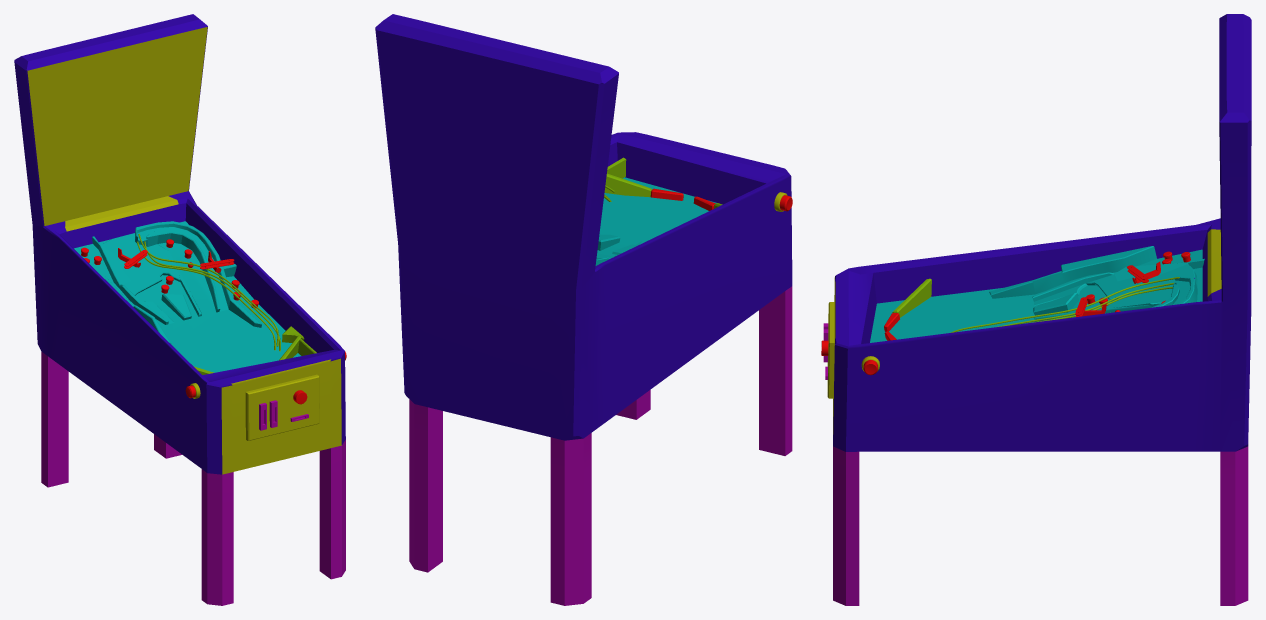
The model's file is PinBallMachine.fbx.
The picture shows the model from 3 angles, left to right: view 1: azimuth 30°, elevation 25°; view 2: azimuth 150°, elevation 25°; view 3: azimuth 270°, elevation 25°; orthographic projection. The views are drawn at different scales.
Visible parts, largest first — view 1: Trigger_Right1; view 2: Trigger_Right1; view 3: Trigger_Right1.
Part boxes in pixels (x1,y1,x2,y2): Trigger_Right1: (14, 14, 346, 605); Trigger_Right1: (375, 14, 792, 605); Trigger_Right1: (821, 14, 1251, 605).
Size of the model in its own units: 6.6 by 14.83 by 11.49.
